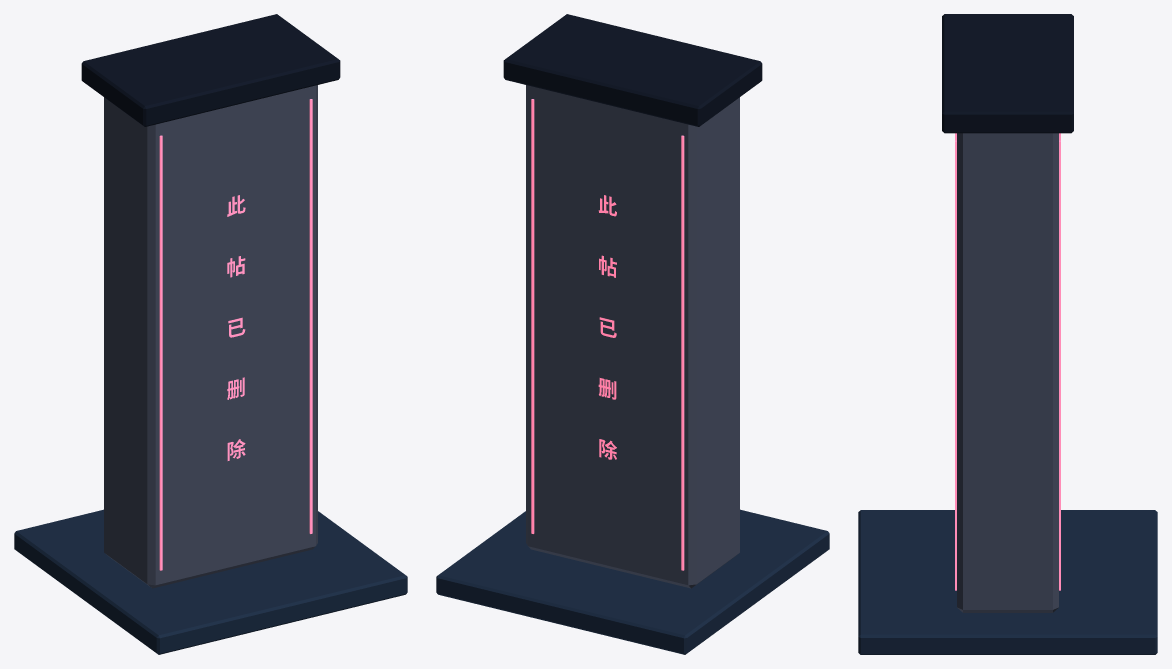
The model's file is GraveTall.fbx.
The picture shows the model from 3 angles, left to right: view 1: azimuth 30°, elevation 25°; view 2: azimuth 150°, elevation 25°; view 3: azimuth 270°, elevation 25°; orthographic projection. The views are drawn at different scales.
Parts seen in each view (by area): view 1: KIT_GraveTall_Mesh; view 2: KIT_GraveTall_Mesh; view 3: KIT_GraveTall_Mesh.
Part boxes in pixels (box(x1,y1,x2,y2)): KIT_GraveTall_Mesh: box(14, 14, 407, 654); KIT_GraveTall_Mesh: box(436, 14, 829, 654); KIT_GraveTall_Mesh: box(858, 14, 1157, 654).
Size of the model in its own units: 3.75 by 7.32 by 3.75.
